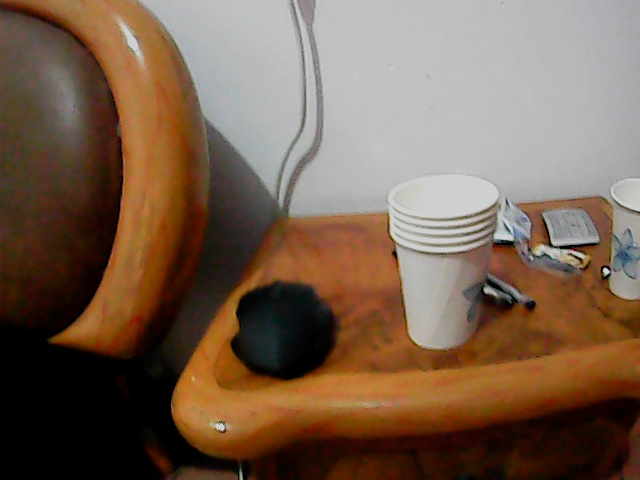cup: (386, 167, 498, 352)
mouse: (227, 275, 336, 378)
